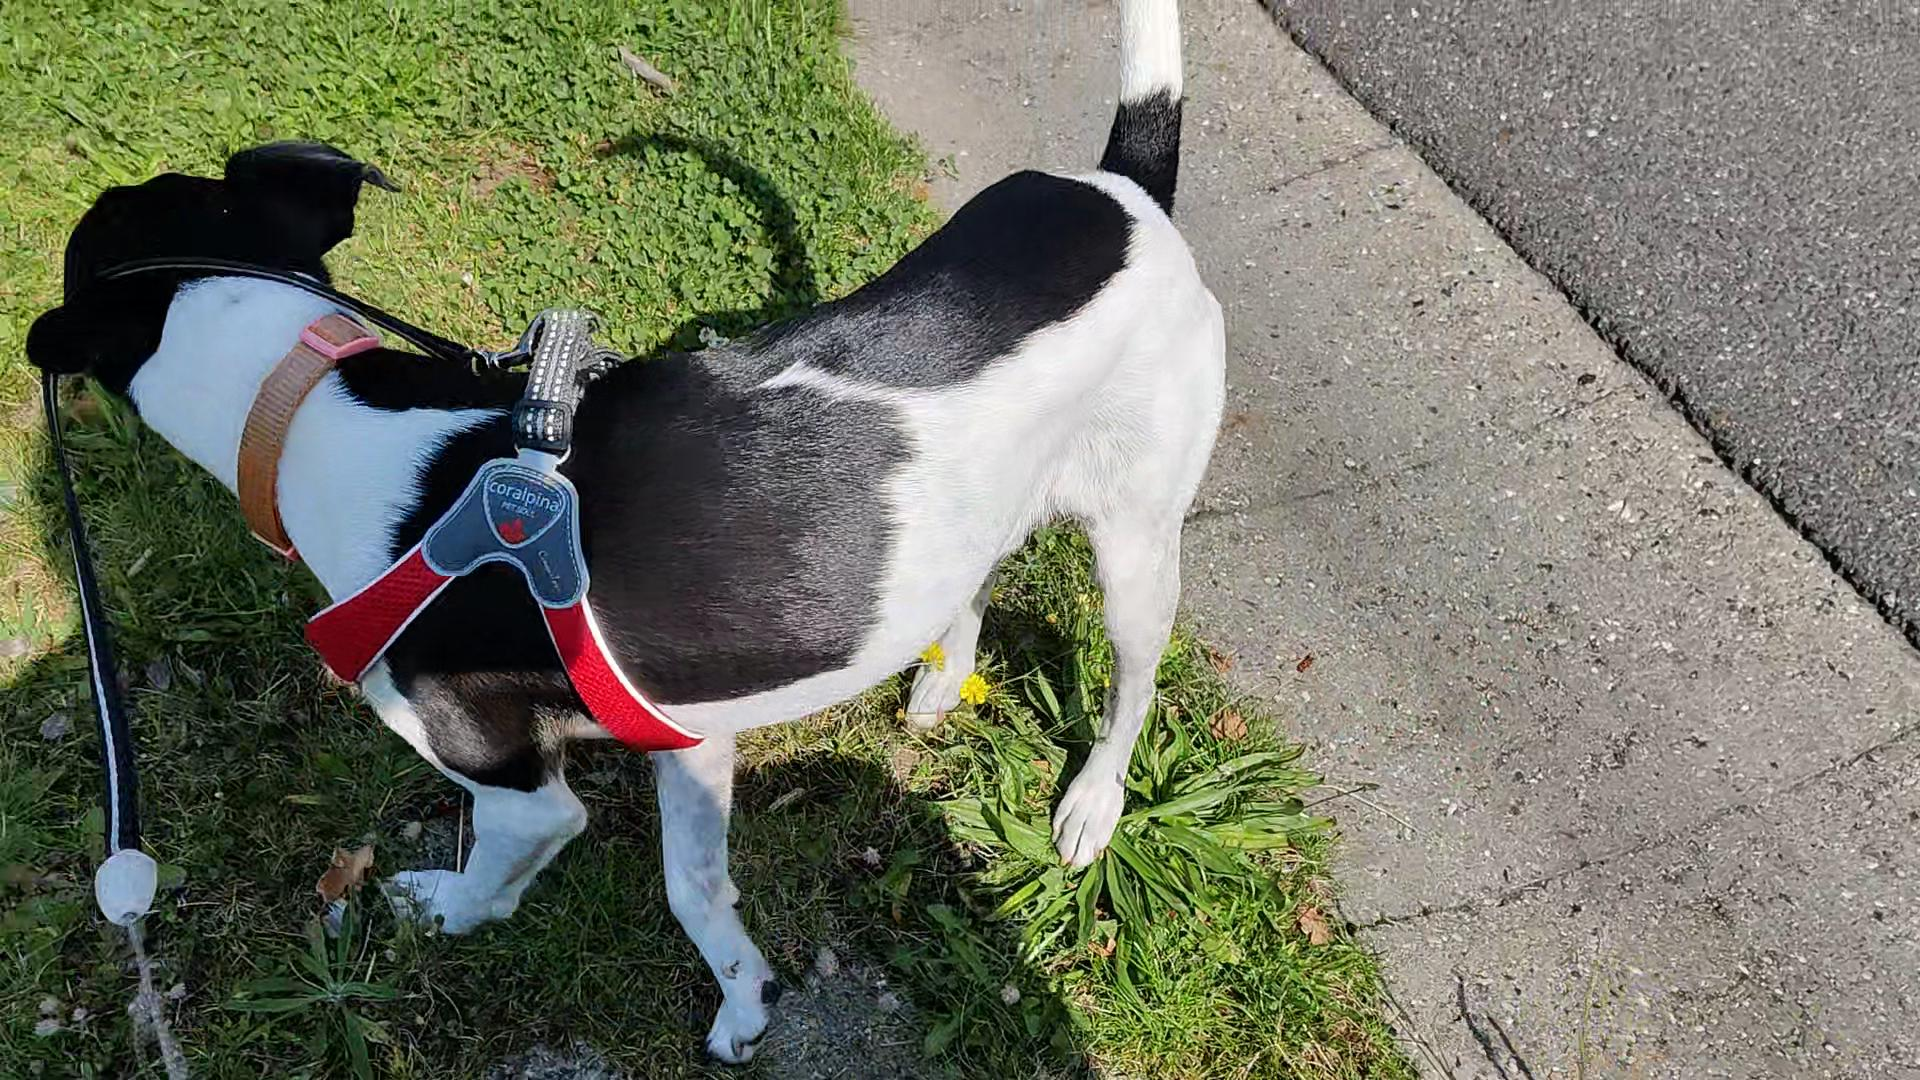Dog: (18, 0, 1234, 1071)
